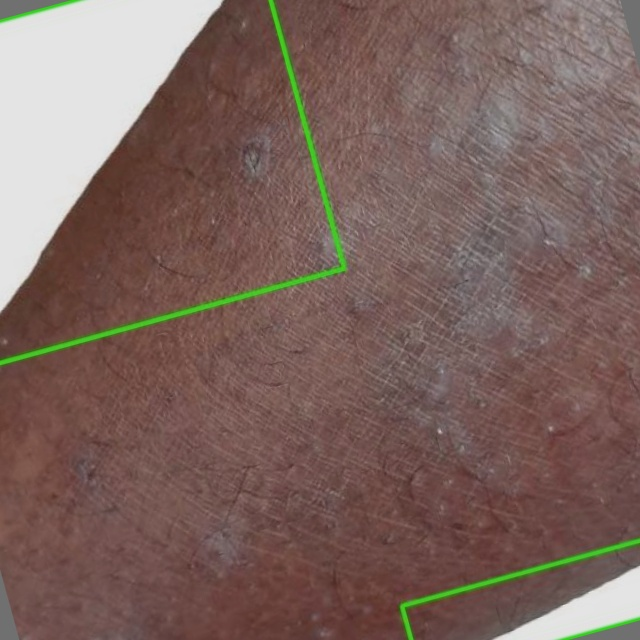Scabies: (0, 0, 345, 364)
